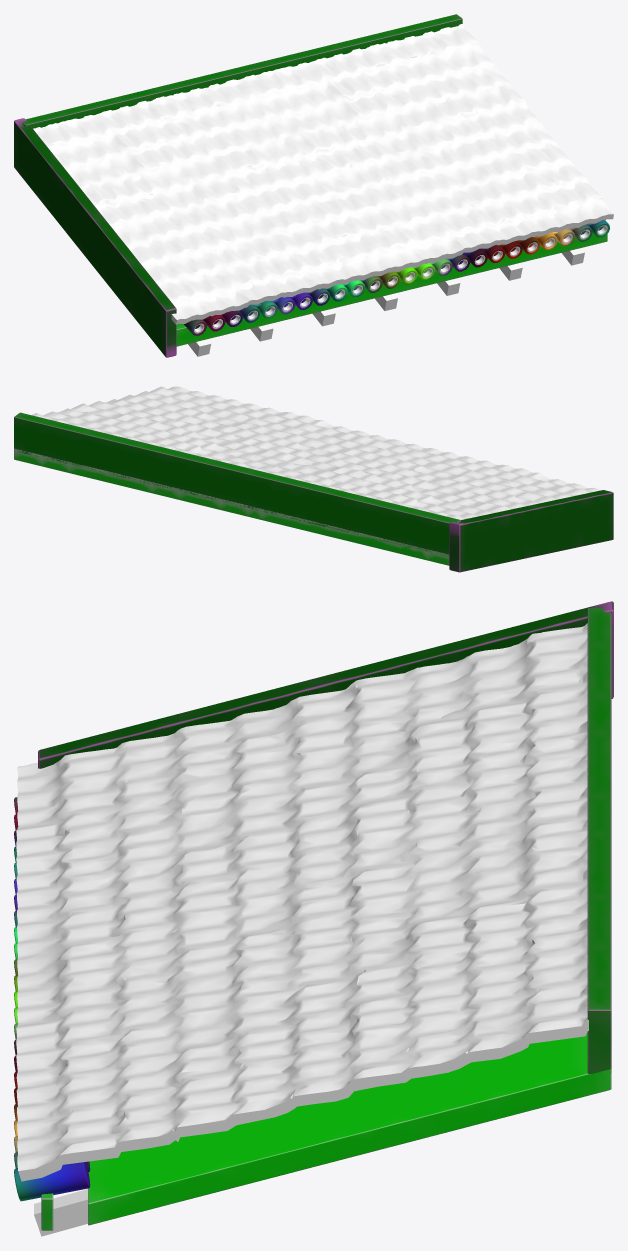
File: overhang_slope_200_01_left.fbx
3 views of the same model, one above another, from view 1: azimuth 30°, elevation 25°; view 2: azimuth 150°, elevation 25°; view 3: azimuth 270°, elevation 25° (orthographic). The views are drawn at different scales.
Visible parts, largest first — view 1: overhang_slope_200_01_left; view 2: overhang_slope_200_01_left; view 3: overhang_slope_200_01_left.
Boxes of the visible parts, bbox=[...] form: overhang_slope_200_01_left: bbox=[14, 14, 613, 357]; overhang_slope_200_01_left: bbox=[14, 386, 613, 572]; overhang_slope_200_01_left: bbox=[14, 601, 613, 1236].
Size of the model in its own units: 4.05 by 1.17 by 2.52.
